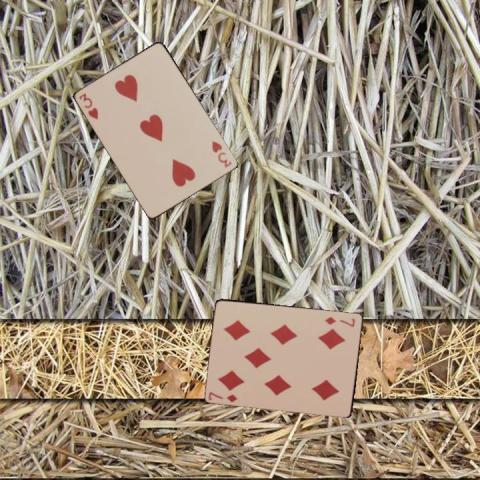3h: (210, 138, 234, 169), (76, 90, 100, 121)
7d: (322, 313, 357, 328), (205, 389, 239, 403)
